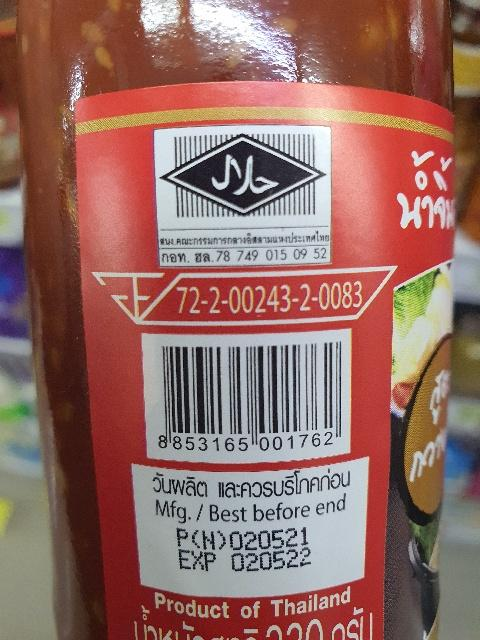Barcode: (146, 333, 354, 459)
